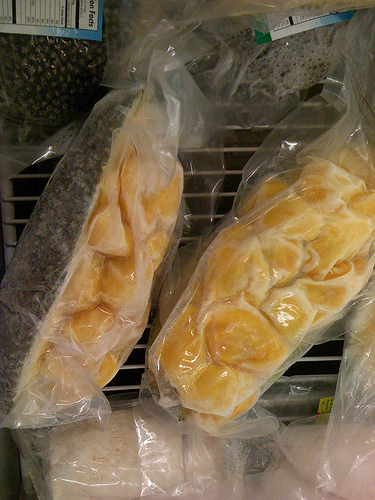jackfruit: (145, 135, 373, 433), (0, 83, 186, 430)
